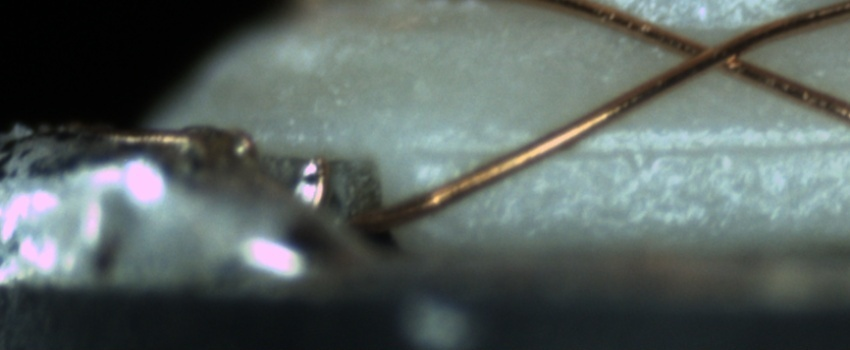CL: (666, 23, 766, 79)
DL: (387, 118, 849, 181)
TE: (97, 119, 332, 217)
